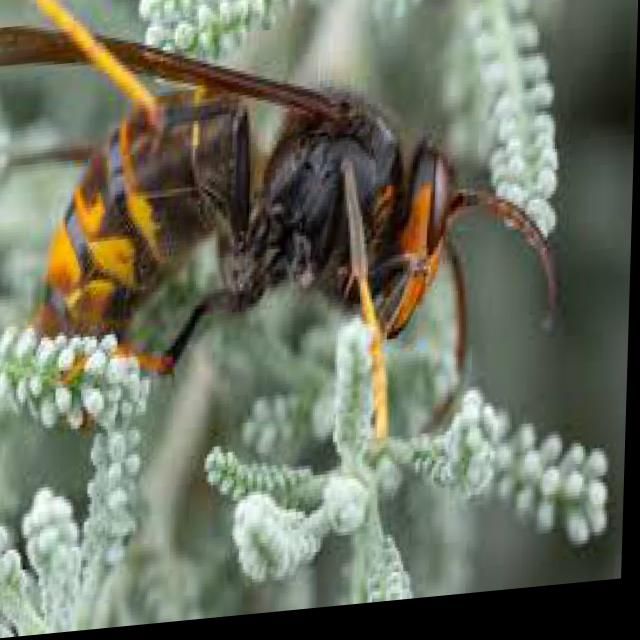Vespa Velutina: (0, 0, 580, 498)
